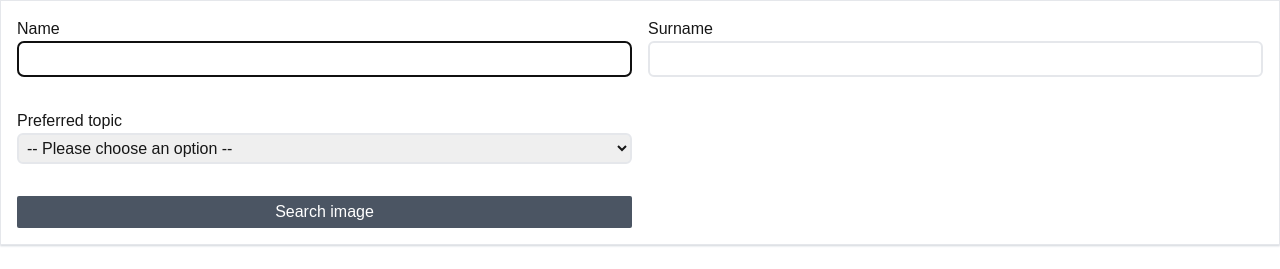
ImageForm › should display customTopic field when other topic is selected
The image size is (1280, 269).
Select "Other" in the dropdown labelled "Preferred topic" at (324, 148), box left=17, top=133, right=632, bottom=164
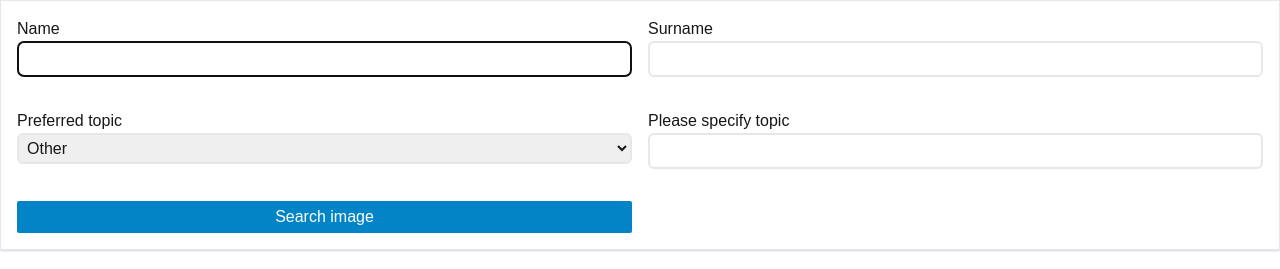
Check: the field labelled "Please specify topic" is shown, box left=648, top=133, right=1263, bottom=169
